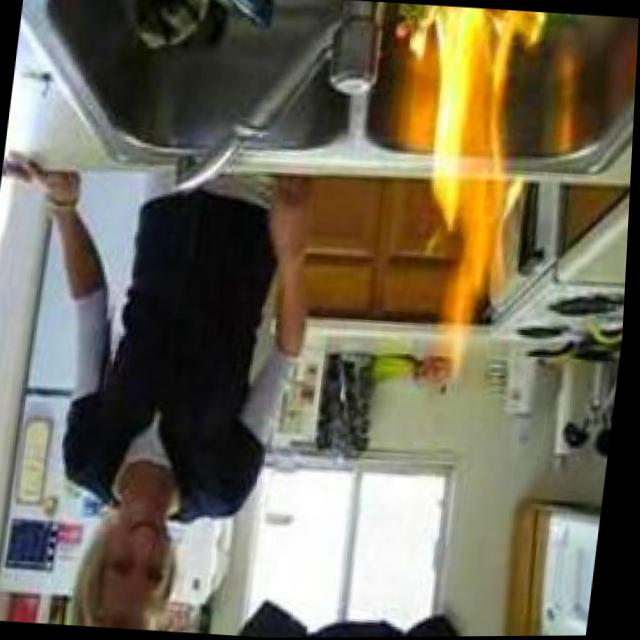Fire: (375, 3, 548, 370)
